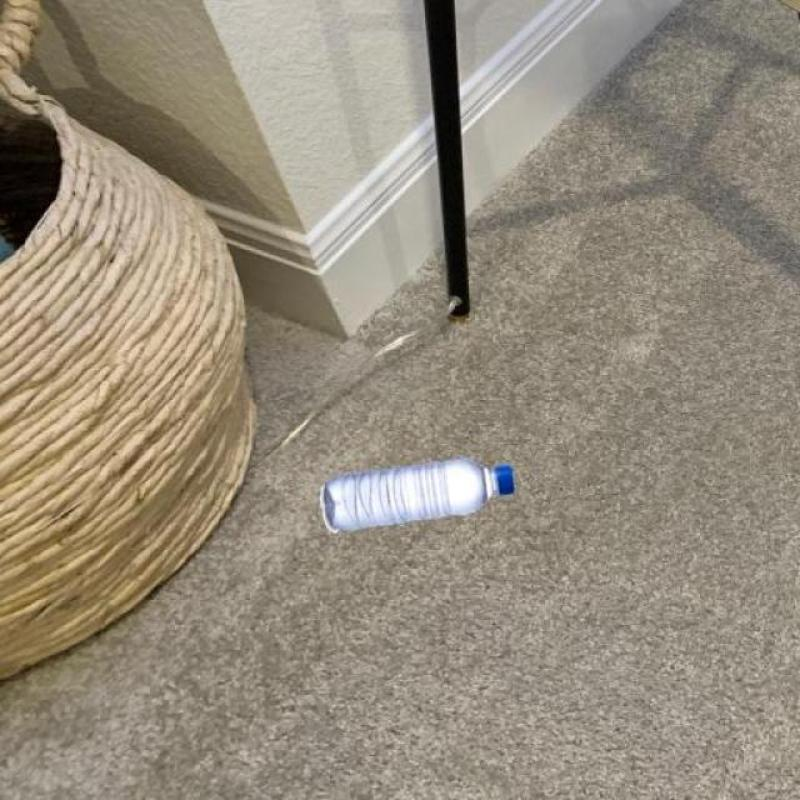botella: (322, 455, 514, 530)
